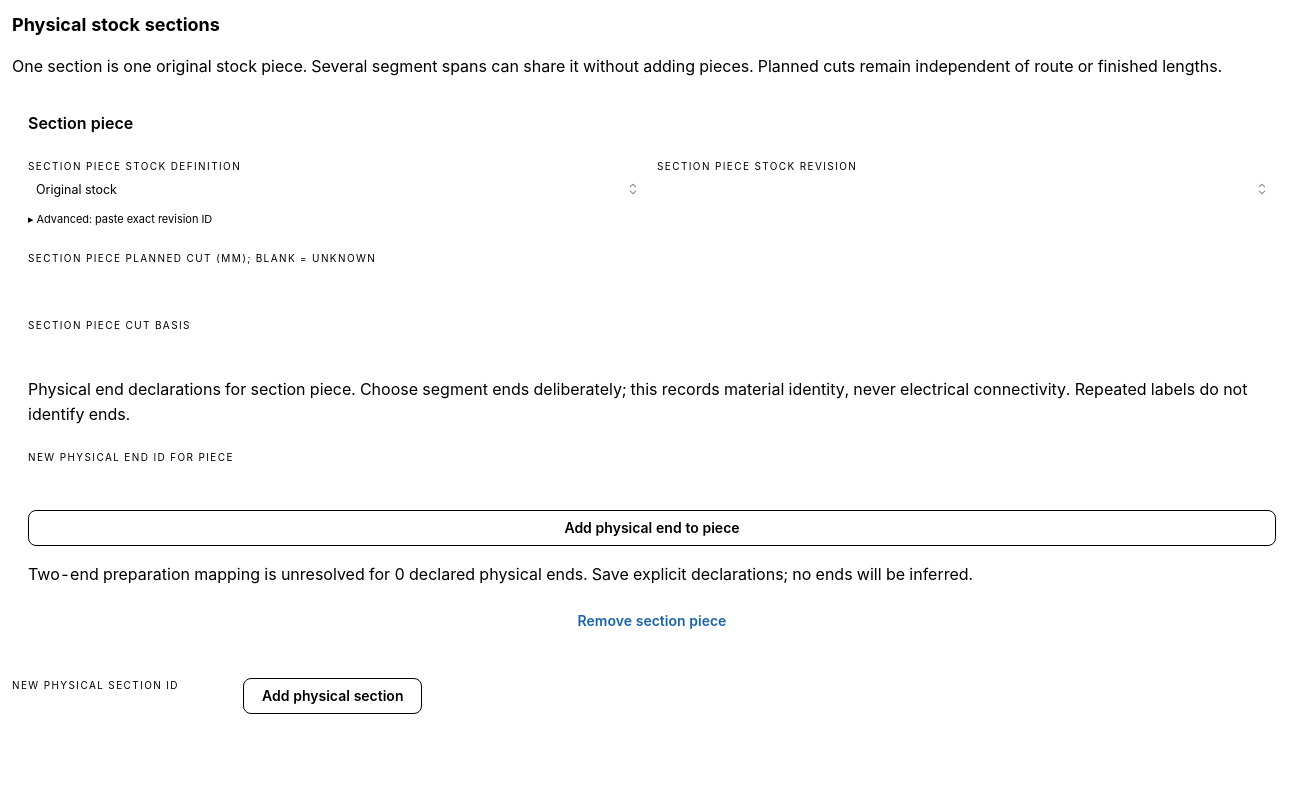
Scenario: stock picker names the existing exact pin without replacing it and each new definition chooses its newest exact revision
Click the dropdown labelled "Section piece stock definition" at [338, 190], box [28,176,647,202]
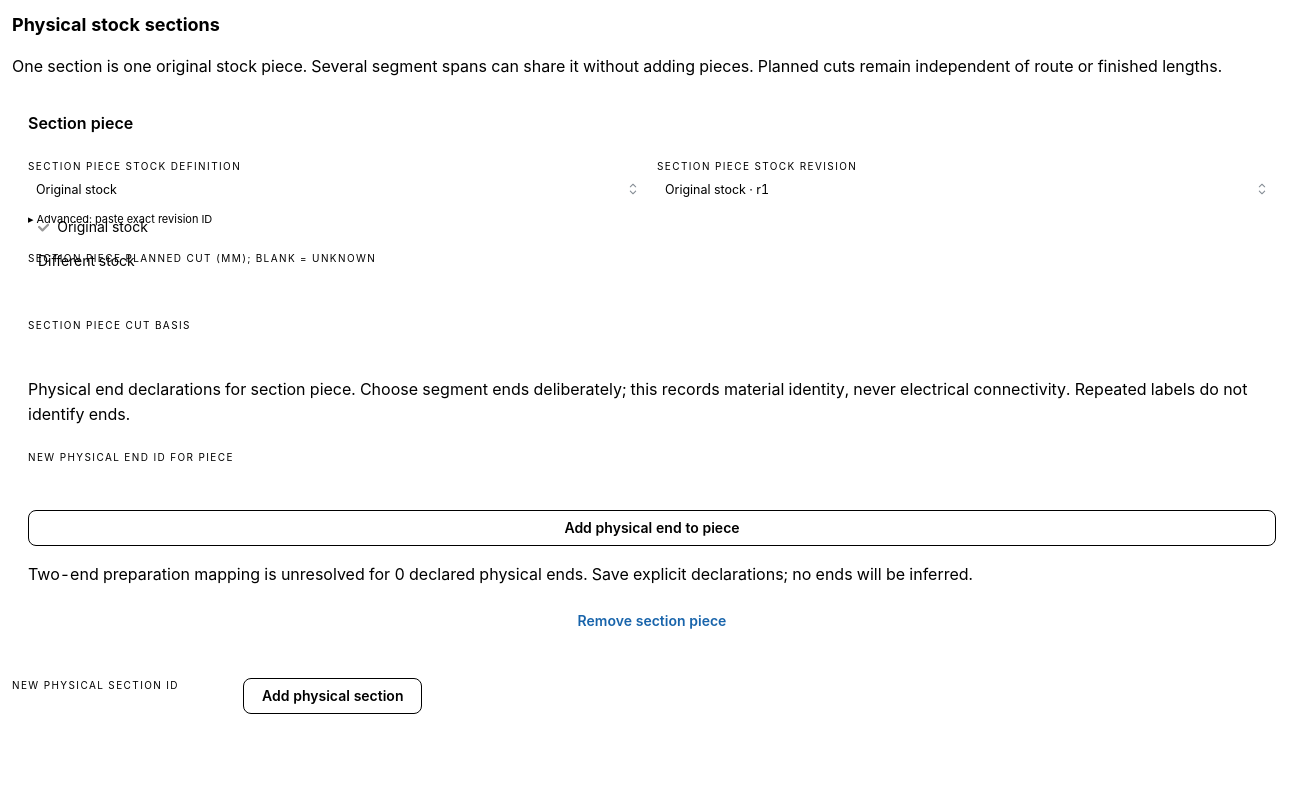
Click the option "Different stock" at [86, 261], box [38,252,135,269]
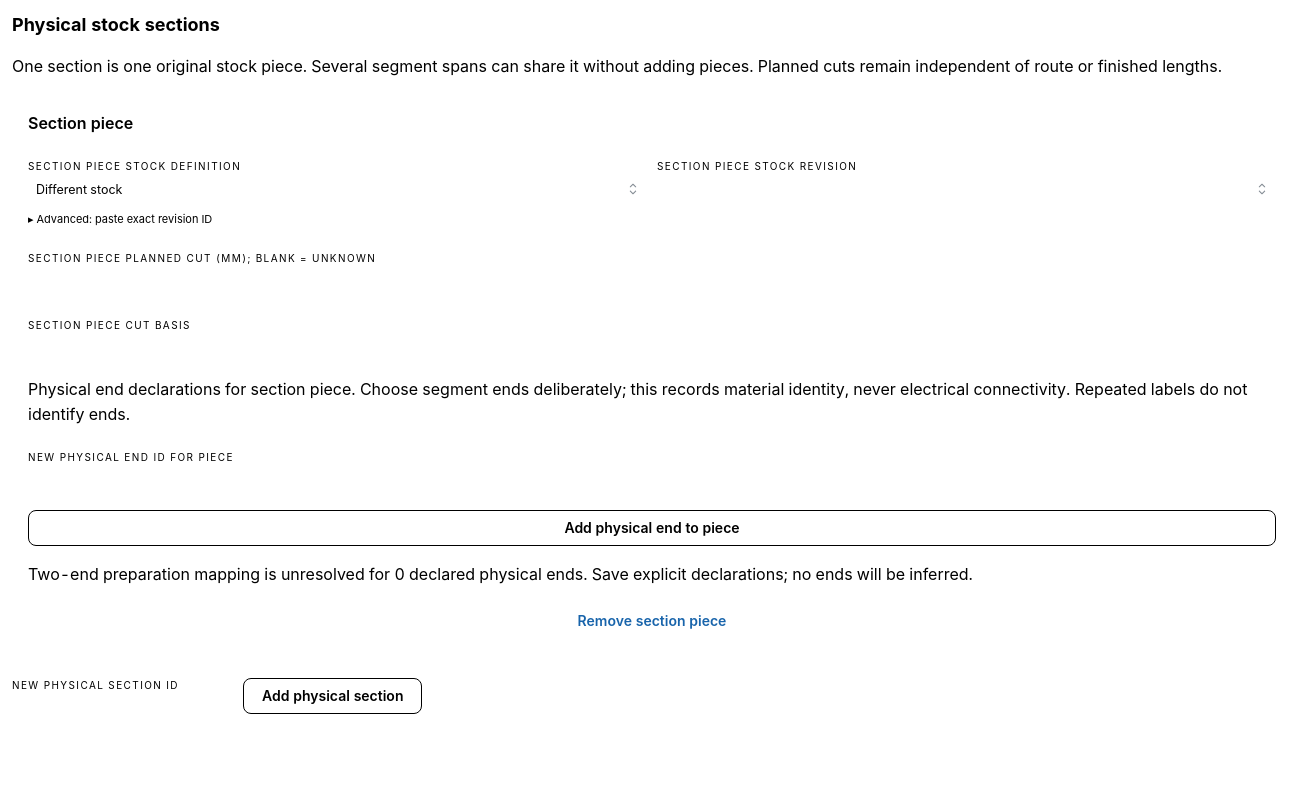
Click the dropdown labelled "Section piece stock definition" at [338, 190], box [28,176,647,202]
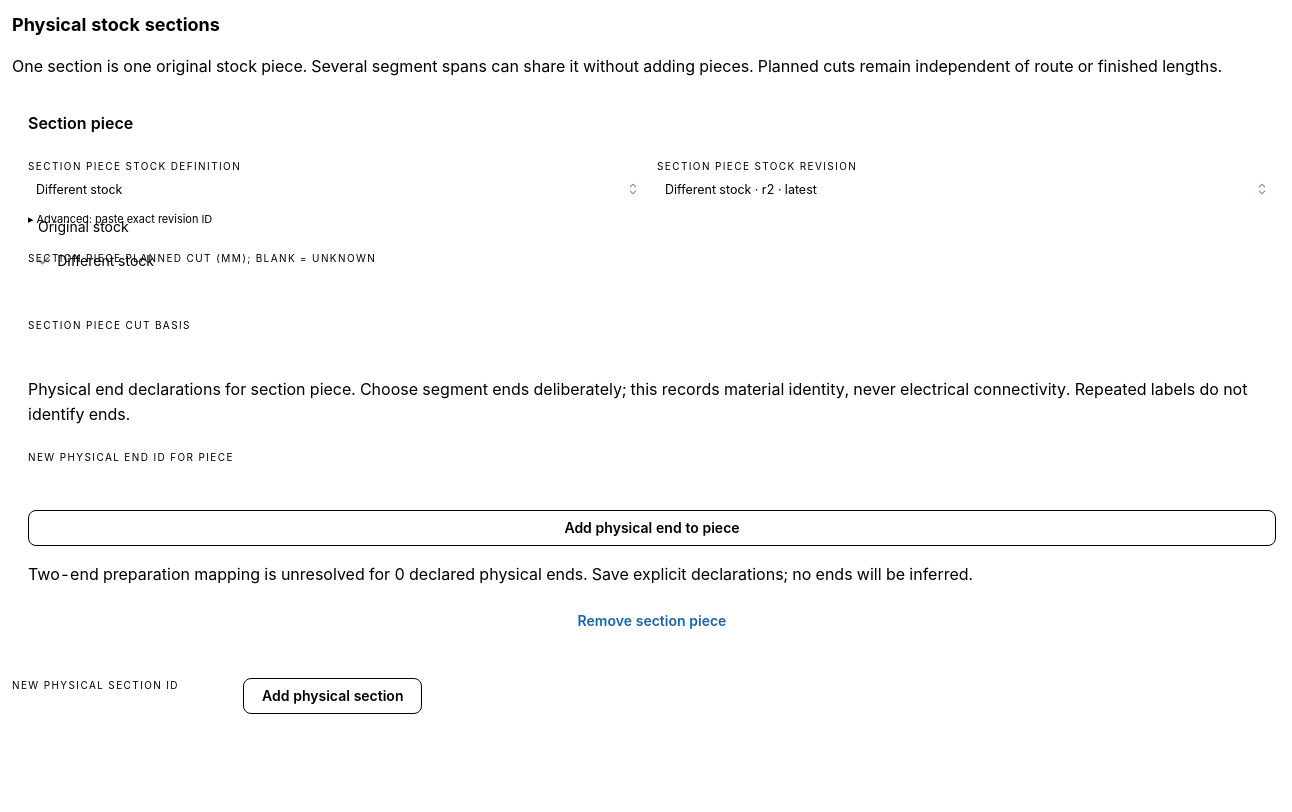
Click the option "Original stock" at [83, 227], box [38,218,129,236]
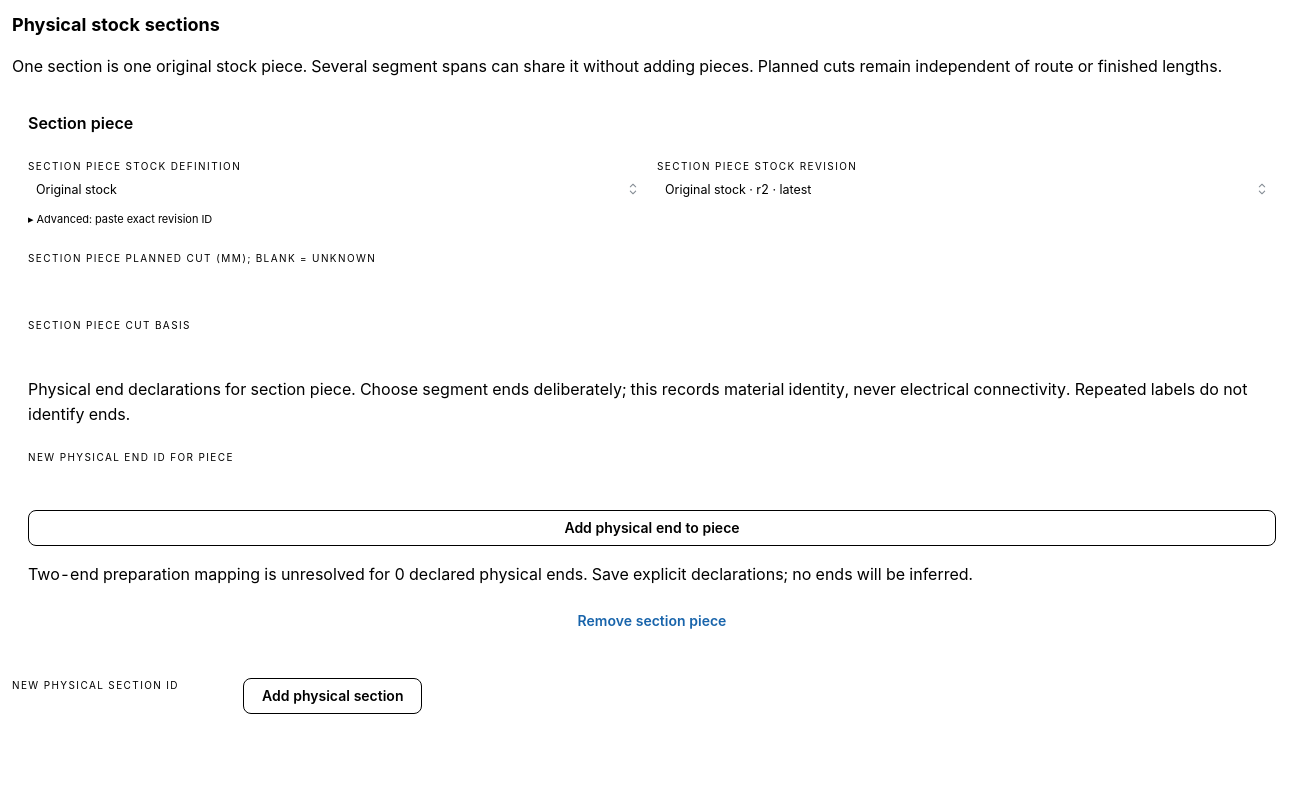
Expected: the field labelled "Section piece stock exact revision ID" is not shown
Click the button with aria-label "Advanced: paste exact revision ID for Section piece stock" at [120, 220], box [28,212,212,228]
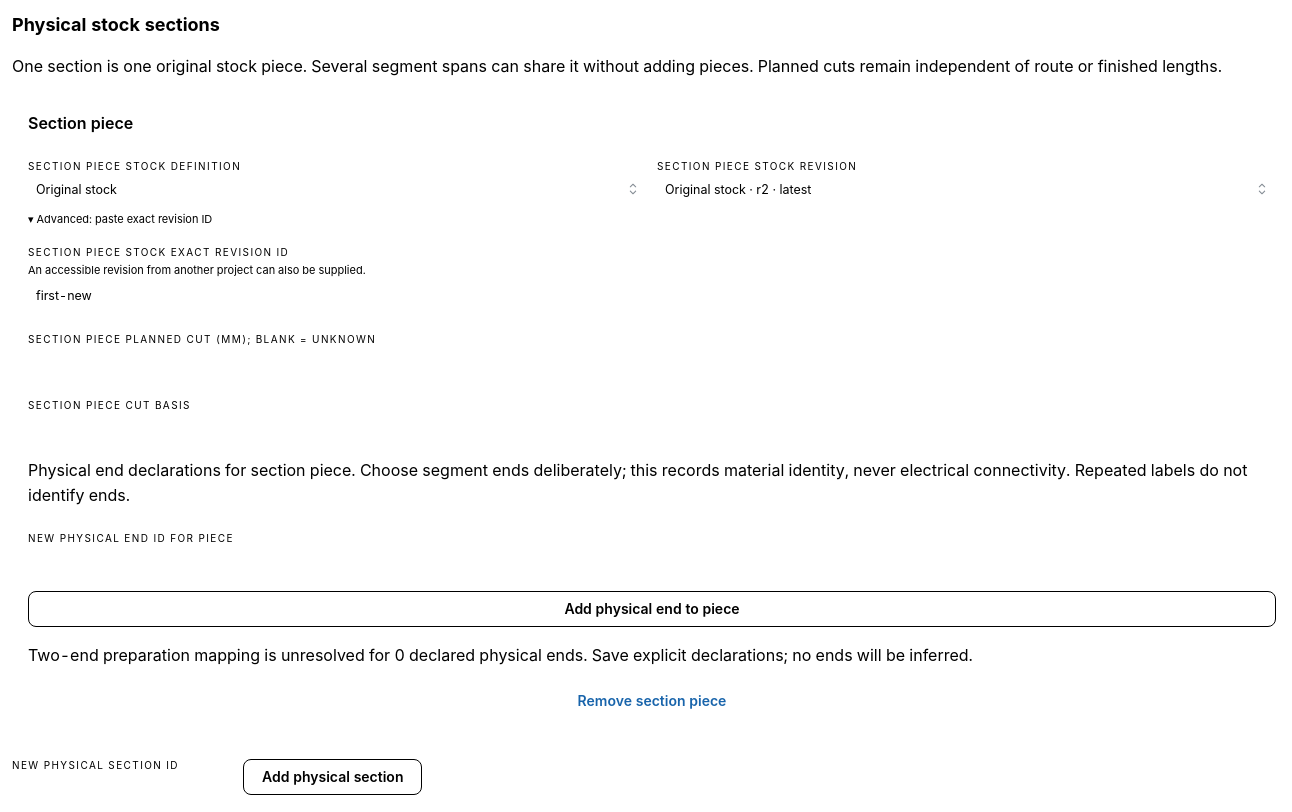
Expected: the field labelled "Section piece stock exact revision ID" holds "first-new", [28,282,1276,308]
